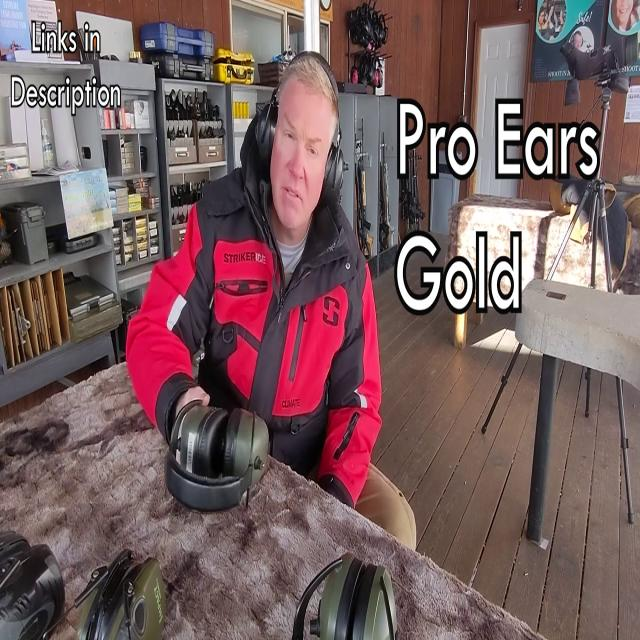earmuff: (225, 402, 272, 488), (178, 398, 226, 482), (252, 100, 280, 172), (322, 144, 351, 210)
